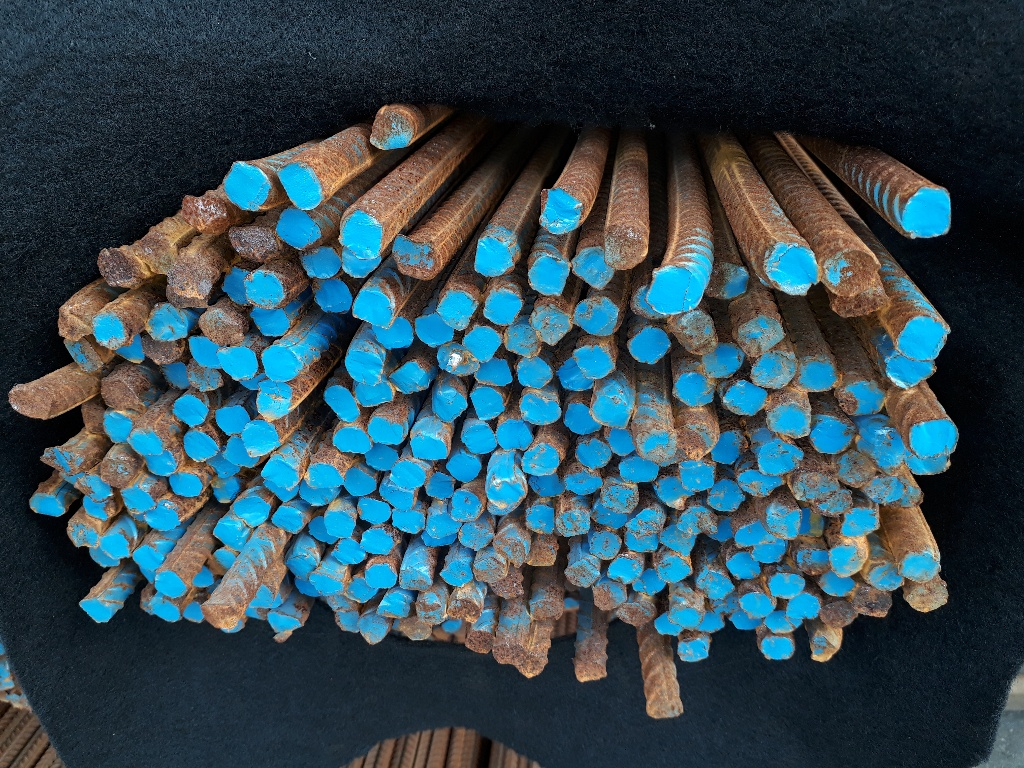dipstick: (764, 243, 817, 292), (902, 188, 951, 236), (223, 162, 271, 210), (651, 267, 699, 313), (393, 235, 439, 281), (824, 253, 876, 293), (279, 162, 322, 210), (898, 316, 947, 358), (97, 247, 144, 289), (341, 213, 382, 259), (181, 195, 228, 235), (909, 419, 958, 457), (540, 190, 581, 233), (276, 209, 321, 248), (574, 297, 619, 335), (859, 426, 904, 464), (369, 111, 413, 149), (674, 311, 715, 351), (606, 224, 643, 267), (811, 417, 854, 454), (738, 317, 782, 353), (230, 227, 275, 262), (752, 353, 797, 388), (170, 259, 211, 297), (839, 381, 883, 416), (529, 256, 568, 295), (532, 306, 571, 345), (796, 357, 839, 392), (630, 327, 670, 364), (591, 394, 632, 430), (146, 303, 188, 338), (200, 310, 244, 343), (475, 238, 513, 276), (137, 235, 174, 274), (354, 290, 393, 327), (707, 264, 748, 299), (576, 246, 612, 285), (10, 386, 51, 420), (889, 359, 937, 388), (759, 441, 801, 474), (832, 292, 887, 317), (246, 271, 283, 308), (483, 289, 521, 325), (312, 280, 352, 314), (769, 404, 810, 437), (262, 347, 300, 382), (675, 373, 713, 408), (704, 344, 744, 377), (725, 382, 765, 415), (58, 303, 94, 339), (678, 426, 717, 459), (94, 311, 128, 348), (258, 381, 292, 418), (520, 394, 561, 424), (767, 504, 802, 539), (347, 351, 384, 384), (65, 340, 104, 371), (218, 347, 257, 378), (300, 248, 340, 278), (575, 346, 615, 376), (796, 472, 836, 502), (899, 551, 939, 581), (487, 474, 527, 503), (174, 395, 208, 429), (246, 422, 280, 456), (504, 324, 540, 356), (842, 506, 878, 538), (836, 455, 874, 485), (374, 318, 413, 347), (442, 294, 476, 327), (831, 546, 867, 577), (468, 326, 502, 358), (712, 432, 746, 464), (565, 403, 600, 434), (235, 496, 271, 526), (416, 314, 452, 344), (326, 388, 358, 421), (708, 481, 741, 513), (656, 477, 690, 508), (853, 589, 892, 616), (559, 360, 594, 390), (102, 379, 138, 408), (639, 431, 675, 460), (738, 473, 785, 495), (369, 417, 407, 444), (460, 519, 493, 550), (497, 531, 528, 564), (471, 389, 504, 420), (213, 519, 248, 548), (438, 348, 477, 374), (432, 389, 464, 420), (142, 340, 185, 363), (342, 251, 380, 277), (819, 601, 857, 627), (497, 420, 531, 449), (518, 359, 552, 388), (577, 439, 611, 468), (603, 482, 637, 511), (906, 588, 947, 612), (868, 476, 904, 503), (252, 309, 289, 335), (222, 266, 246, 306), (343, 466, 375, 496), (216, 406, 250, 434), (393, 364, 427, 392), (524, 447, 558, 475), (564, 560, 599, 587), (189, 336, 219, 367), (464, 424, 495, 454), (43, 447, 80, 472), (696, 571, 733, 596), (452, 491, 482, 521), (410, 433, 446, 458), (620, 459, 659, 482), (101, 457, 133, 485), (185, 432, 217, 460), (589, 531, 621, 559), (154, 570, 187, 597), (448, 455, 481, 482), (680, 461, 713, 488), (661, 527, 694, 554), (335, 428, 372, 452), (678, 509, 715, 533), (814, 491, 851, 515), (556, 509, 590, 535), (262, 460, 297, 485), (477, 360, 512, 385), (417, 593, 446, 623), (68, 519, 100, 546), (204, 603, 237, 629), (356, 383, 393, 406), (618, 602, 655, 625), (380, 485, 414, 510), (391, 463, 425, 488), (77, 476, 112, 500), (868, 564, 903, 588), (595, 582, 626, 609), (564, 472, 602, 494), (736, 524, 774, 546), (607, 557, 640, 582), (797, 549, 830, 574), (189, 366, 223, 390), (227, 440, 257, 467), (905, 456, 950, 474), (272, 505, 303, 531), (728, 553, 759, 579), (307, 464, 342, 487), (818, 574, 856, 595), (811, 633, 839, 661), (525, 507, 555, 533), (131, 430, 162, 455), (363, 530, 394, 555), (442, 561, 473, 586), (629, 511, 661, 535), (300, 486, 340, 505), (148, 508, 181, 531), (771, 573, 804, 596), (741, 594, 774, 617), (760, 637, 793, 660), (30, 495, 66, 516), (287, 553, 315, 580), (106, 412, 132, 441), (366, 443, 396, 468), (659, 556, 689, 581), (118, 333, 142, 364), (393, 510, 424, 534), (592, 509, 629, 529), (79, 599, 111, 622), (400, 568, 432, 591), (449, 599, 482, 621), (311, 516, 336, 545), (609, 426, 633, 456), (648, 698, 682, 719), (171, 474, 202, 497), (359, 500, 390, 523), (122, 488, 154, 510), (361, 617, 388, 643), (161, 363, 189, 388), (529, 476, 564, 496), (494, 572, 523, 596), (151, 599, 181, 622), (366, 564, 396, 587), (678, 638, 708, 661), (333, 542, 364, 564), (379, 595, 410, 617), (401, 618, 432, 640), (754, 539, 785, 561), (211, 477, 237, 503), (786, 596, 818, 617), (147, 451, 176, 474), (494, 642, 523, 665), (767, 612, 802, 631), (328, 512, 354, 537), (428, 472, 454, 497), (476, 557, 504, 580), (802, 510, 825, 538), (313, 574, 343, 595), (269, 612, 302, 631), (209, 550, 235, 574), (347, 579, 375, 601), (83, 404, 104, 433), (635, 571, 664, 592), (729, 612, 761, 631), (575, 662, 608, 680), (265, 482, 296, 501), (531, 599, 562, 618), (102, 536, 130, 557), (712, 515, 733, 542), (528, 544, 554, 565), (212, 457, 239, 477), (430, 516, 458, 535), (674, 609, 702, 628), (249, 585, 273, 607), (468, 631, 492, 653), (524, 653, 546, 677), (657, 613, 681, 635), (336, 611, 361, 632), (86, 499, 115, 517), (714, 592, 740, 612), (89, 548, 118, 565), (702, 613, 725, 633), (192, 568, 213, 587), (184, 602, 203, 622), (422, 535, 456, 546), (296, 581, 319, 596)
